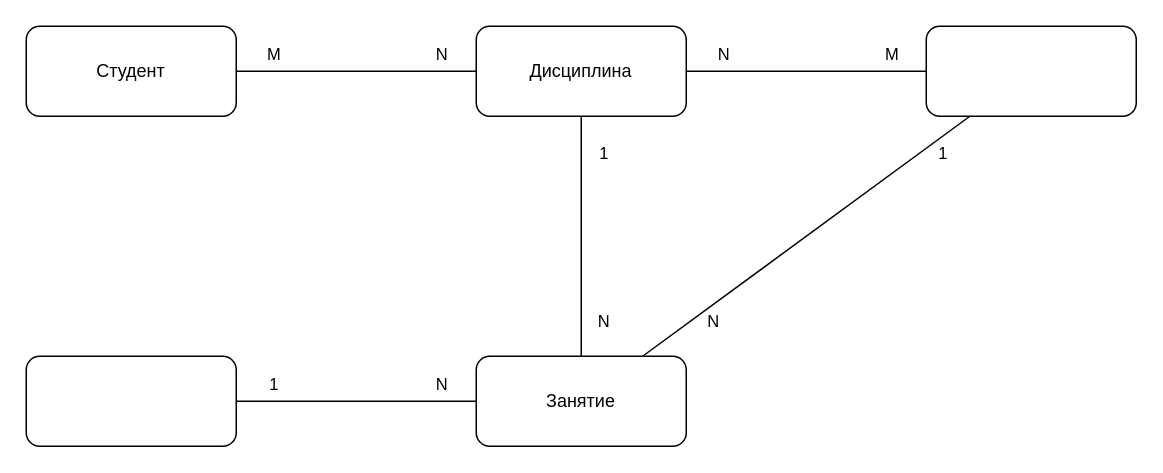
This 1163x473 diagram has some shape labels left out. Each missing label, with the centre of its shape:
"Лектор" belongs at [1030,70].
"Формат занятия" belongs at [130,400].
